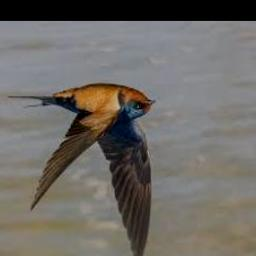Swallow: (8, 84, 157, 256)
